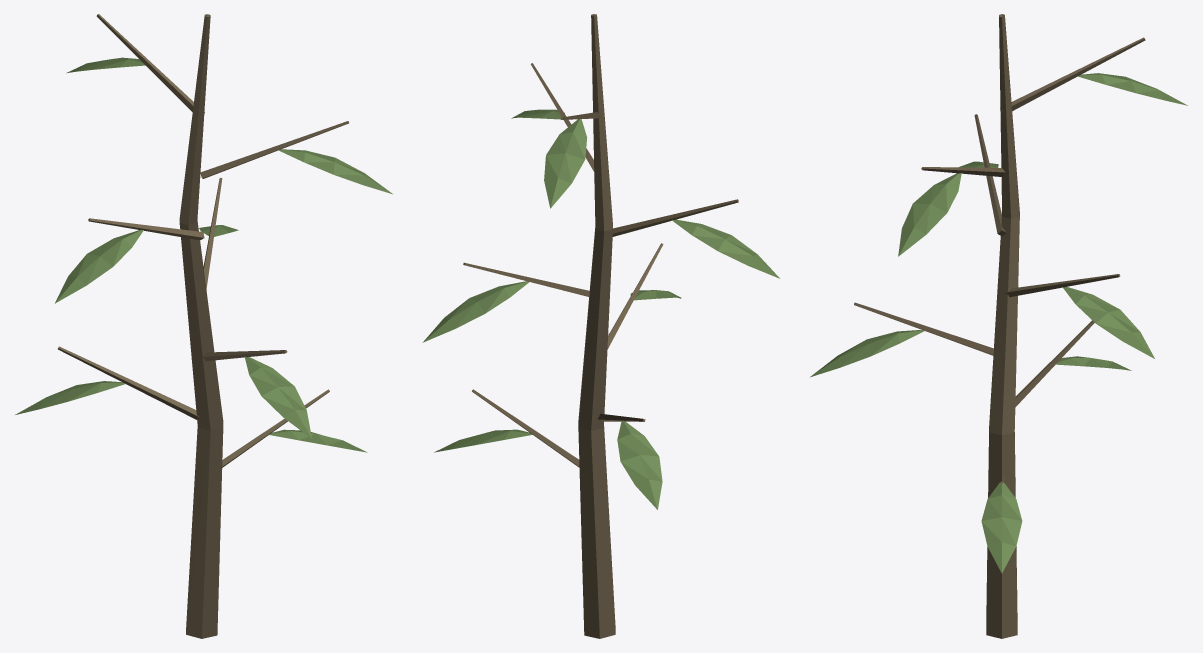
File: willow_sapling.glb
The picture shows the model from 3 angles, left to right: view 1: azimuth 30°, elevation 25°; view 2: azimuth 150°, elevation 25°; view 3: azimuth 270°, elevation 25°; orthographic projection.
Visible parts, largest first — view 1: branches, leaves; view 2: branches, leaves; view 3: branches, leaves.
Part boxes in pixels (x1,y1,x2,y2): branches: [58, 14, 348, 638]; leaves: [15, 57, 393, 452]; branches: [463, 14, 738, 638]; leaves: [422, 109, 779, 509]; branches: [854, 14, 1145, 638]; leaves: [810, 73, 1187, 573].
Bounding box in the file's own units: 0.3374 × 0.6 × 0.3335.
